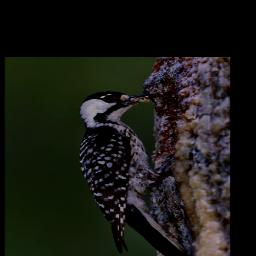Woodpecker: (77, 91, 191, 256)
